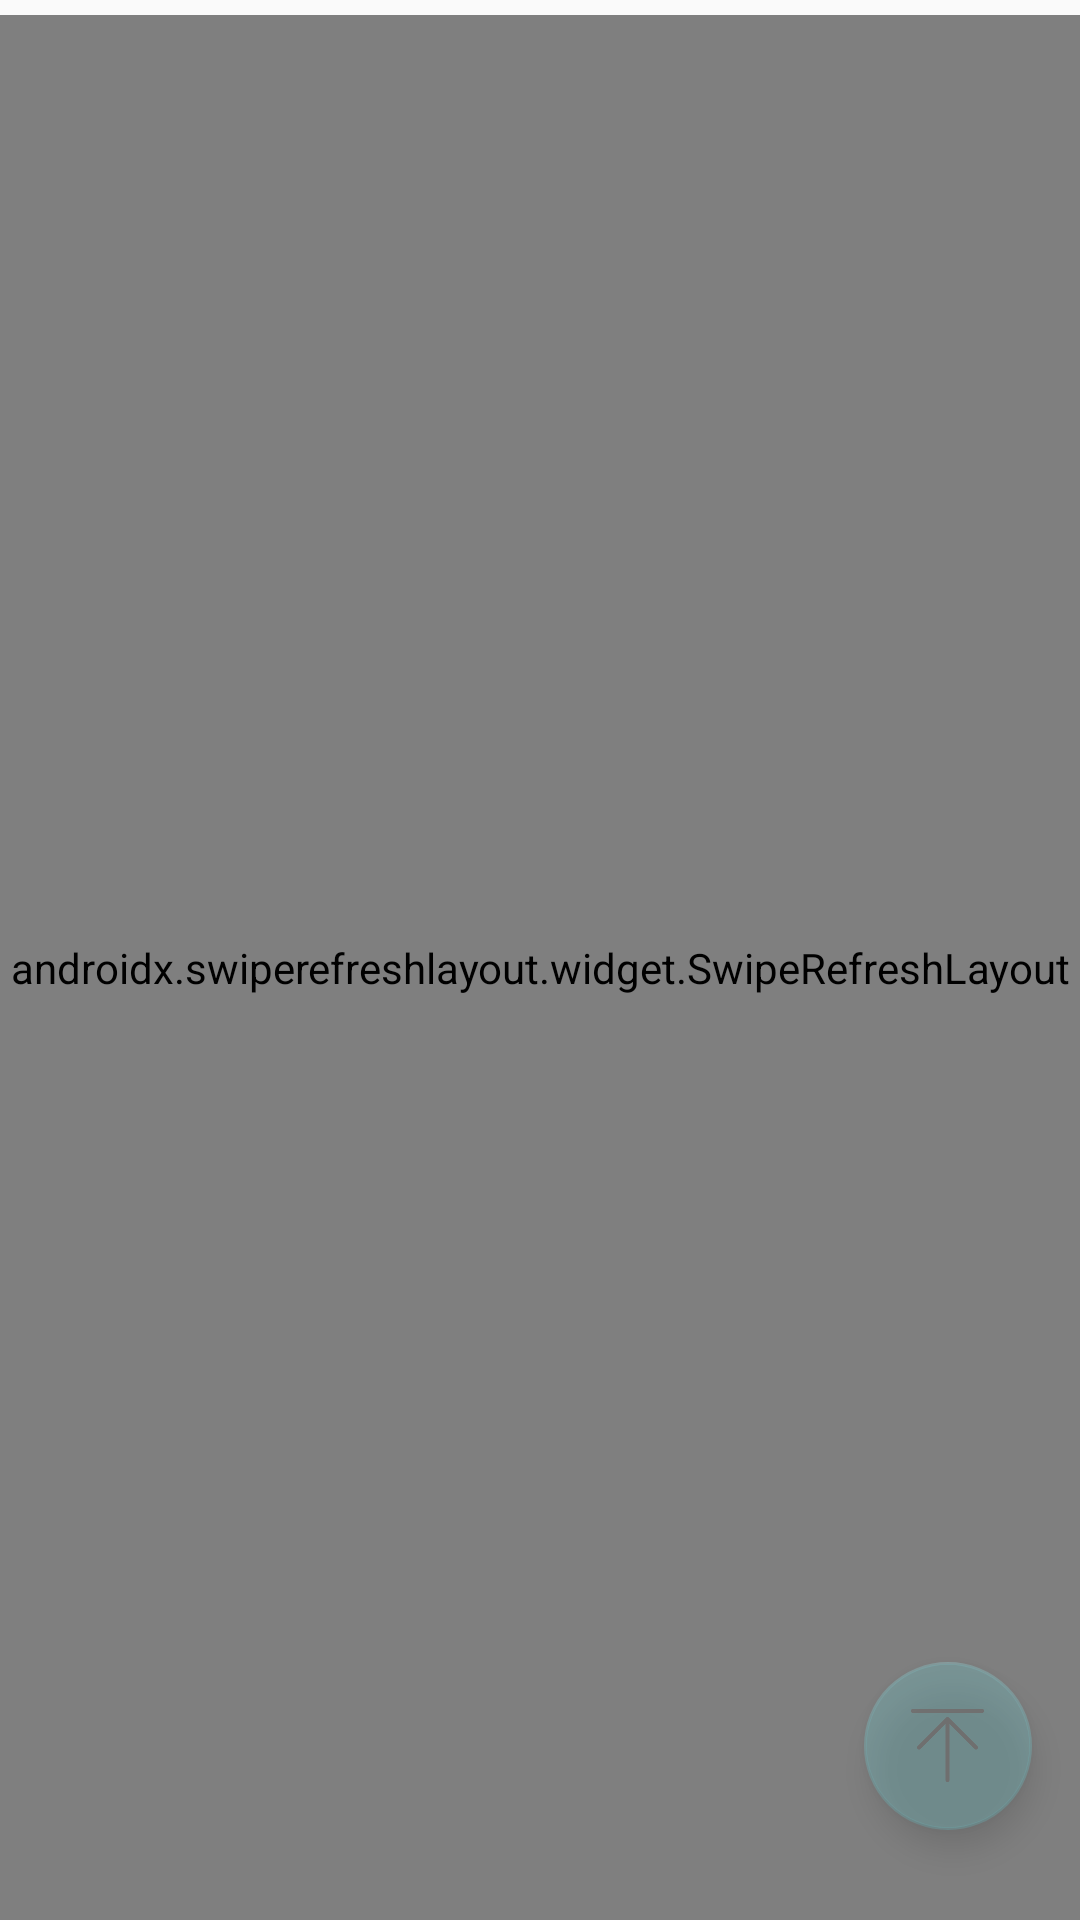

Icons on this 1080 x 1920 Android screen, each with its box as (x1, y1, x2, y2):
newslist upstick: (864, 1662, 1032, 1830)
